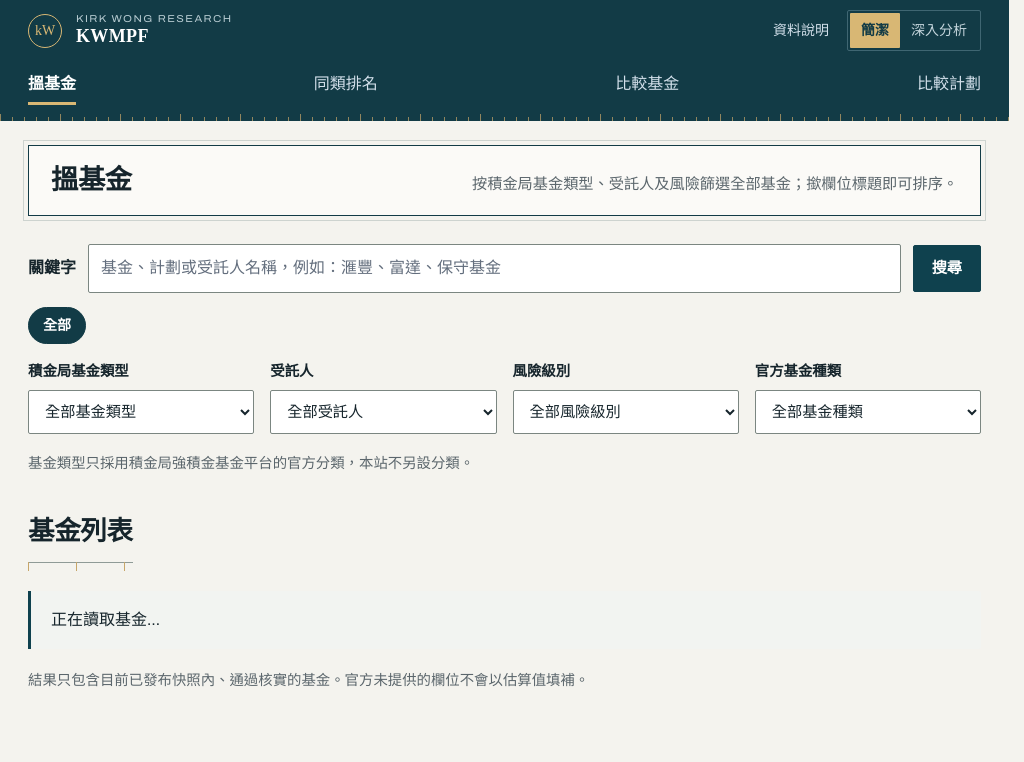
Test: fund browse page without a separate class › omits the official n.a. placeholder next to the fund name
The width and height of the screenshot is (1024, 762).
Select "Equity Fund" in the dropdown labelled "官方基金種類" at (868, 412), box [755,390,981,434]
(page scrolled)
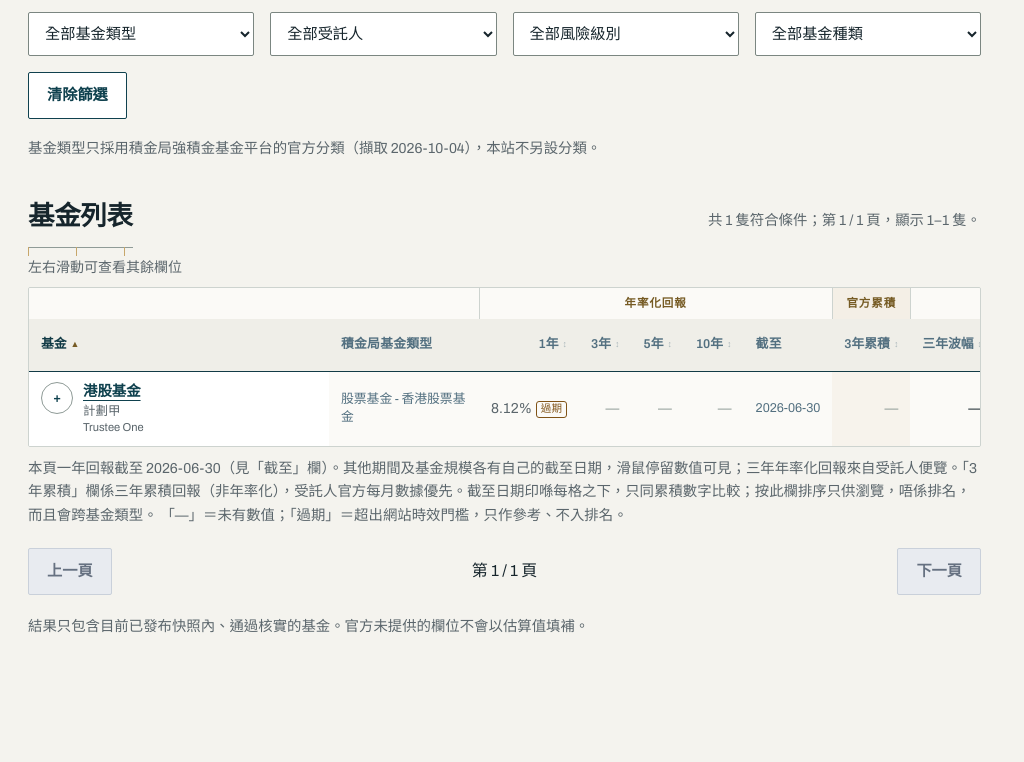
Now the link "港股基金" is shown, box [83,383,141,399]
